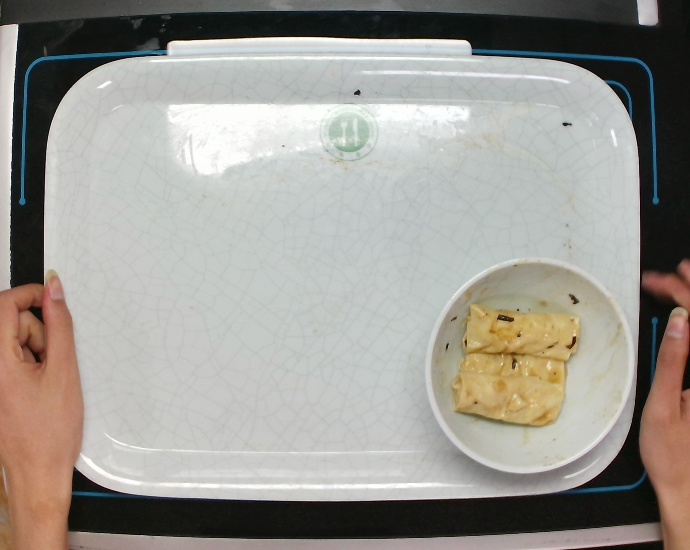JYsf-Fan_Wan: (418, 255, 638, 486)
